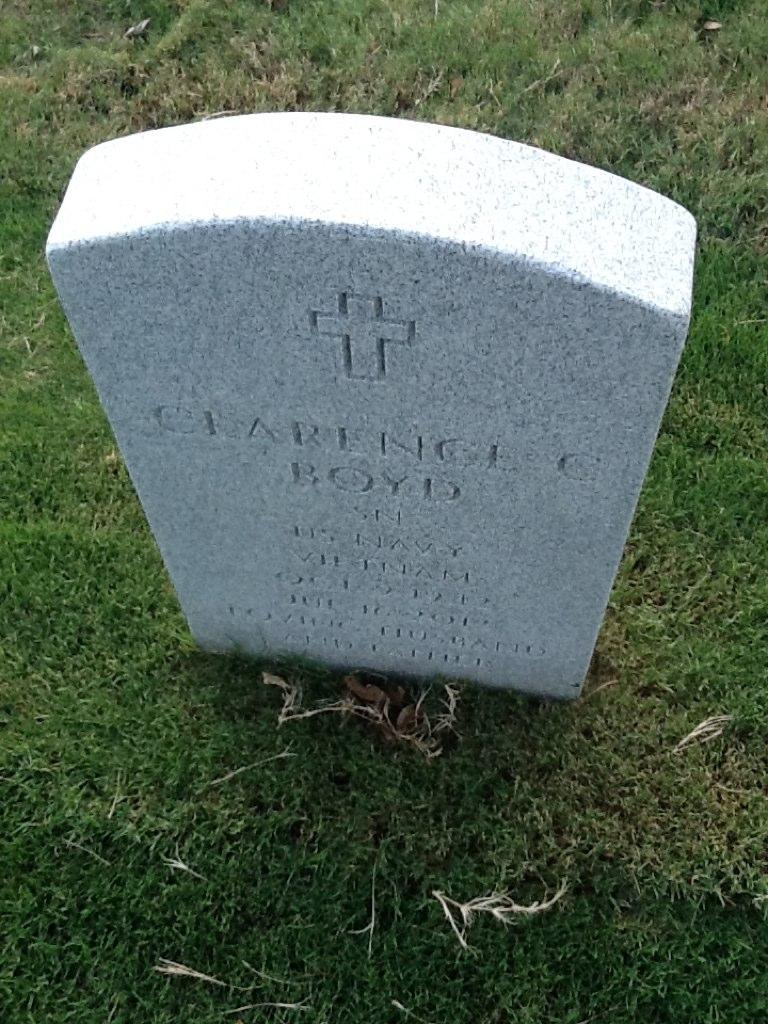military: (51, 115, 698, 701)
